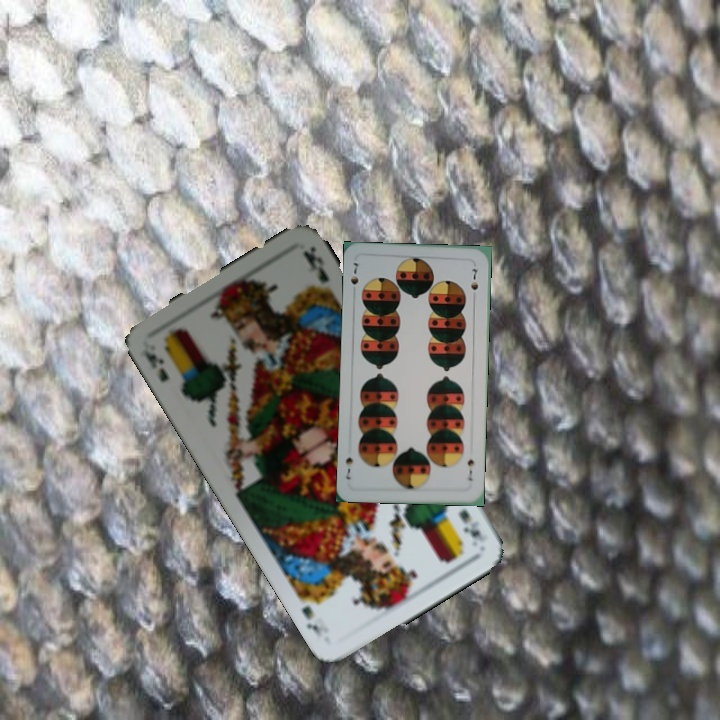EK: (139, 344, 171, 385), (454, 505, 485, 541)
S7: (346, 259, 361, 297), (463, 455, 477, 483)
